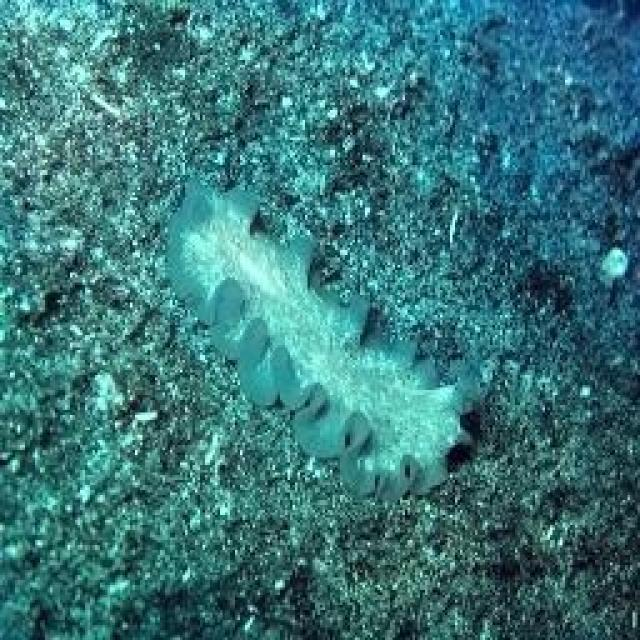reefs: (166, 178, 480, 503)
